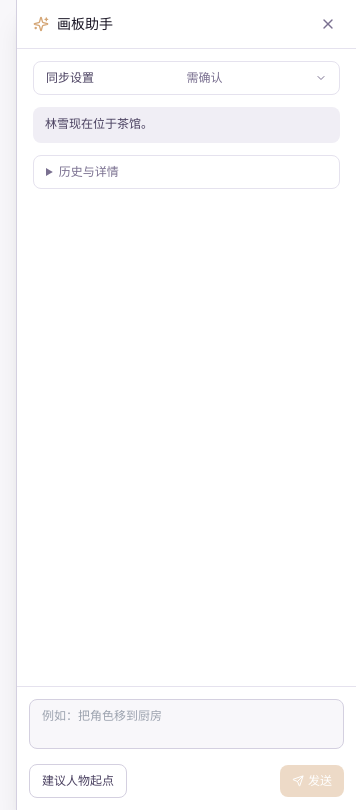
it: 空间阶段 3：紧凑交互 › 当前查询答复直接可见，旧消息和同步设置默认折叠
Expected: the text "林雪现在位于茶馆。" is shown, [45,117,153,131]
Click the text "同步设置" at (70, 78), box [46,70,94,86]
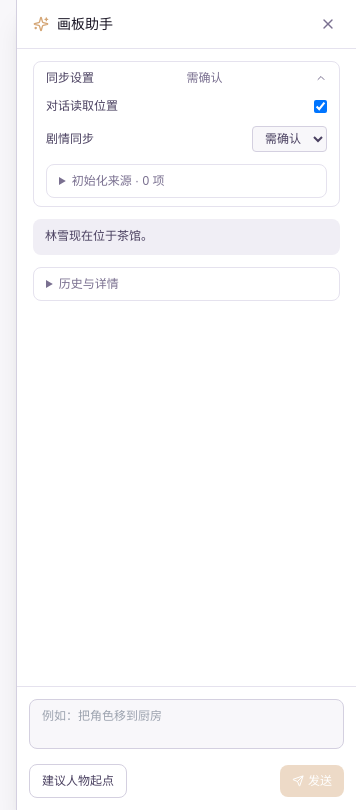
Result: the dropdown named "剧情同步策略" is shown at [252,126,327,152]
